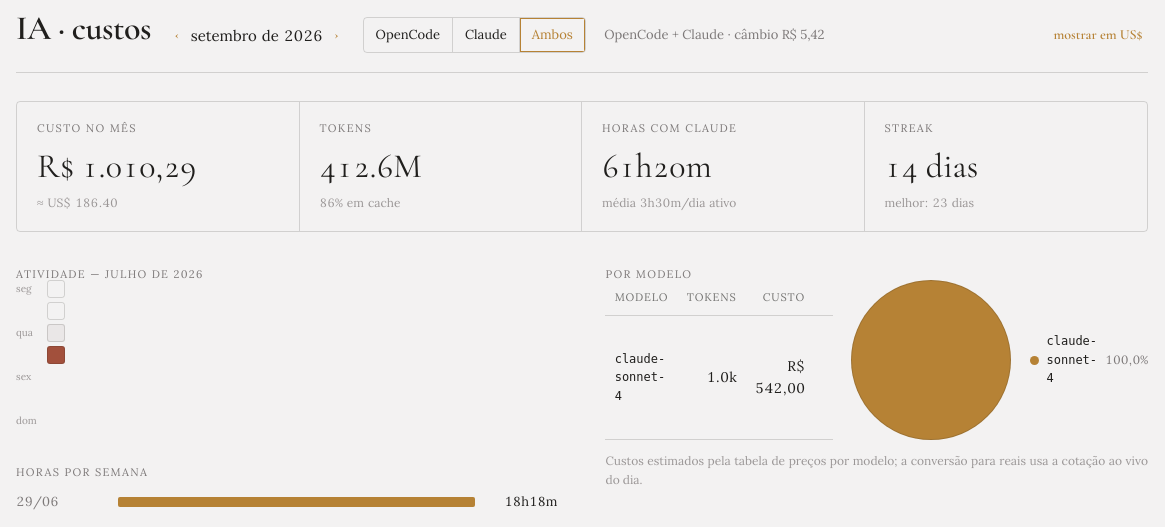
Test: IaCustos › toggle de moeda troca o texto do botão e o valor principal
Expected: the text "R$ 1.010,29" is shown, [37,146,197,187]
Click the button "mostrar em US$" at (1098, 35), box [1048,17,1148,54]
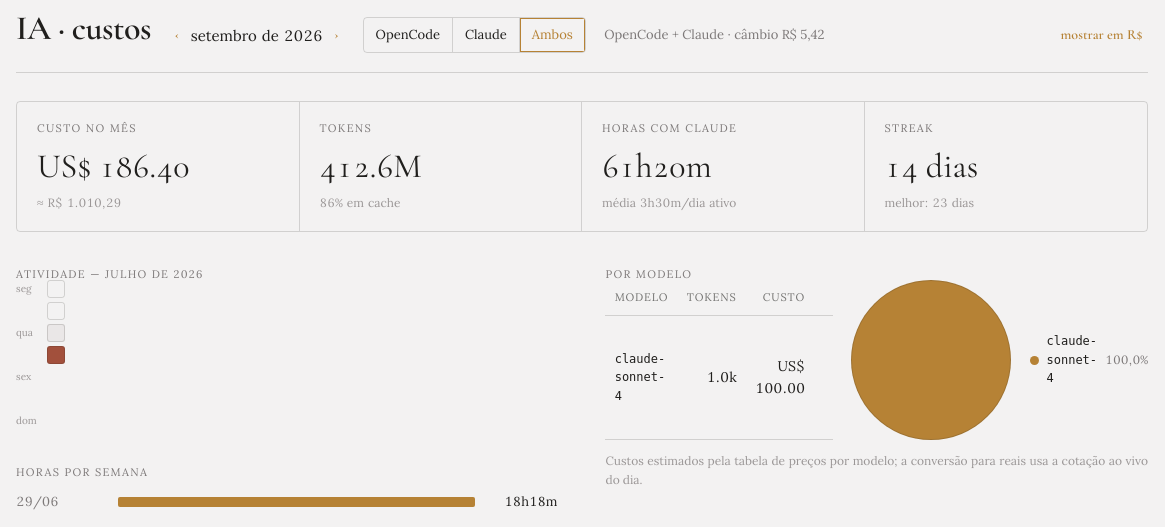
Expected: the text "US$ 186.40" is shown, [37,146,190,187]
